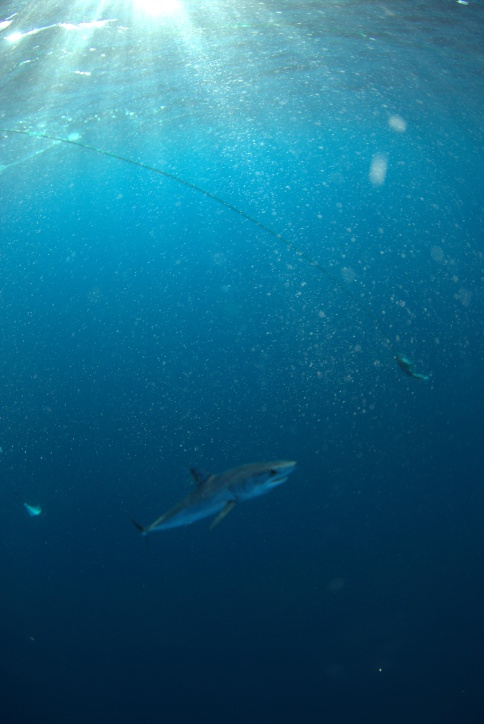Mako: (115, 435, 331, 563)
